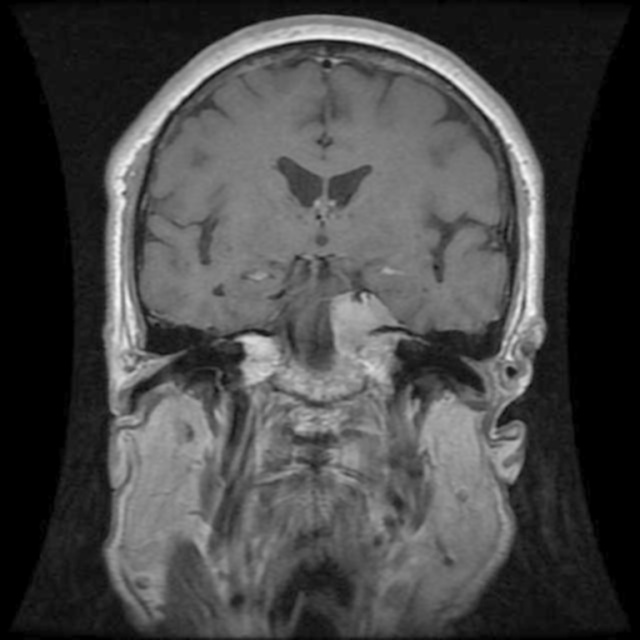meningioma tumor: (326, 288, 414, 384)
